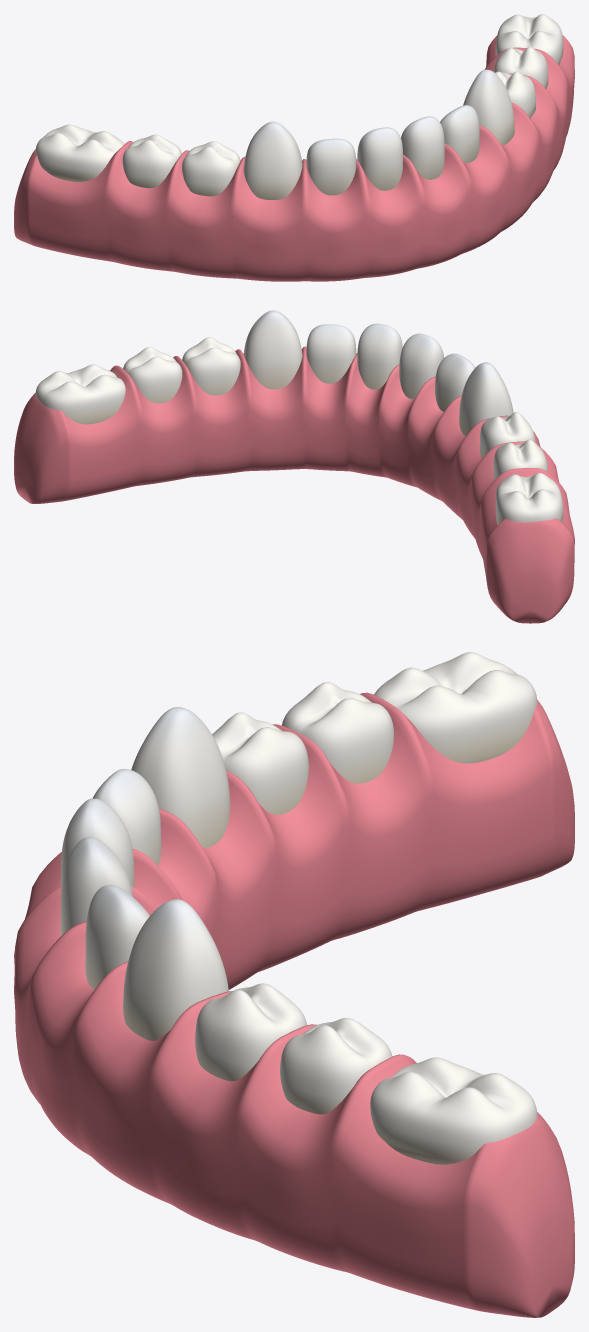
Rendered from masterclass-2.glb.
The picture shows the model from 3 angles, top to bottom: view 1: azimuth 30°, elevation 25°; view 2: azimuth 150°, elevation 25°; view 3: azimuth 270°, elevation 25°; orthographic projection. The views are drawn at different scales.
Parts seen in each view (by area): view 1: Gengiva, Dente_0, Dente_3, Dente_2, Dente_8, Dente_4, Dente_5, Dente_1, Dente_11, Dente_6, Dente_7, Dente_10 (+1 smaller); view 2: Gengiva, Dente_11, Dente_8, Dente_0, Dente_3, Dente_9, Dente_7, Dente_6, Dente_10, Dente_5, Dente_4, Dente_2 (+1 smaller); view 3: Gengiva, Dente_11, Dente_0, Dente_8, Dente_3, Dente_10, Dente_9, Dente_1, Dente_2, Dente_7, Dente_6, Dente_4 (+1 smaller).
Part boxes in pixels (left/top/right/bottom): Gengiva: left=14, top=35, right=574, bottom=281; Dente_0: left=35, top=124, right=124, bottom=181; Dente_3: left=243, top=121, right=302, bottom=199; Dente_2: left=182, top=141, right=240, bottom=196; Dente_8: left=463, top=69, right=514, bottom=144; Dente_4: left=306, top=138, right=356, bottom=195; Dente_5: left=357, top=127, right=402, bottom=190; Dente_1: left=122, top=134, right=181, bottom=188; Dente_11: left=495, top=14, right=563, bottom=65; Dente_6: left=401, top=116, right=444, bottom=179; Dente_7: left=440, top=105, right=479, bottom=162; Dente_10: left=494, top=47, right=548, bottom=88; Gengiva: left=14, top=346, right=574, bottom=623; Dente_11: left=35, top=364, right=125, bottom=424; Dente_8: left=243, top=310, right=302, bottom=389; Dente_0: left=495, top=472, right=563, bottom=524; Dente_3: left=459, top=362, right=513, bottom=436; Dente_9: left=182, top=337, right=240, bottom=395; Dente_7: left=306, top=324, right=356, bottom=383; Dente_6: left=357, top=323, right=402, bottom=389; Dente_10: left=123, top=347, right=182, bottom=403; Dente_5: left=399, top=333, right=443, bottom=398; Dente_4: left=435, top=353, right=475, bottom=411; Dente_2: left=479, top=412, right=535, bottom=458; Gengiva: left=14, top=692, right=574, bottom=1317; Dente_11: left=370, top=1057, right=537, bottom=1164; Dente_0: left=374, top=652, right=537, bottom=763; Dente_8: left=123, top=899, right=228, bottom=1040; Dente_3: left=131, top=707, right=230, bottom=847; Dente_10: left=280, top=1018, right=392, bottom=1114; Dente_9: left=195, top=983, right=307, bottom=1081; Dente_1: left=282, top=682, right=393, bottom=783; Dente_2: left=212, top=712, right=308, bottom=814; Dente_7: left=85, top=884, right=149, bottom=989; Dente_6: left=60, top=837, right=132, bottom=936; Dente_4: left=92, top=769, right=161, bottom=865.
Bounding box in the file's own units: 0.0584 × 0.0153 × 0.028.
